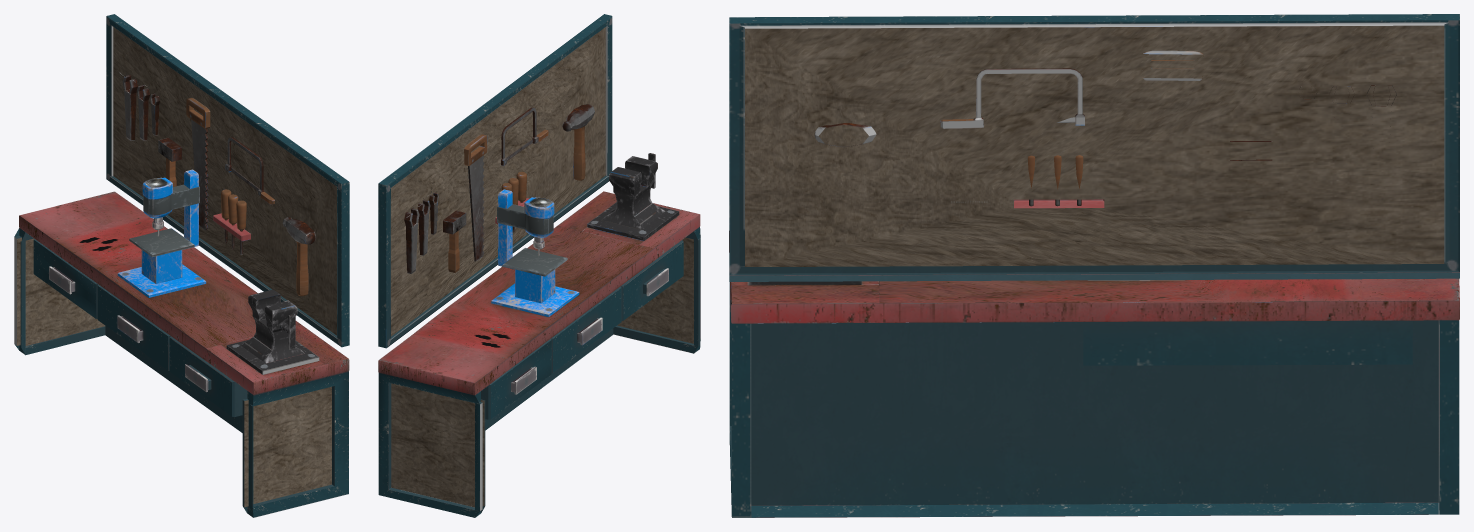
Rendered from Workplace_WorkTable_wtihTools.fbx.
3 views of the same model, side by side, from view 1: azimuth 30°, elevation 25°; view 2: azimuth 150°, elevation 25°; view 3: azimuth 270°, elevation 25° (orthographic). The views are drawn at different scales.
Visible parts, largest first — view 1: Cube.001; view 2: Cube.001; view 3: Cube.001.
Boxes of the visible parts, x1=… form: Cube.001: x1=14, y1=14, x2=349, y2=517; Cube.001: x1=378, y1=14, x2=700, y2=517; Cube.001: x1=729, y1=14, x2=1459, y2=517.
Bounding box in the file's own units: 66.9 × 188 × 252.
Materials: 1 (1 with a texture image).
